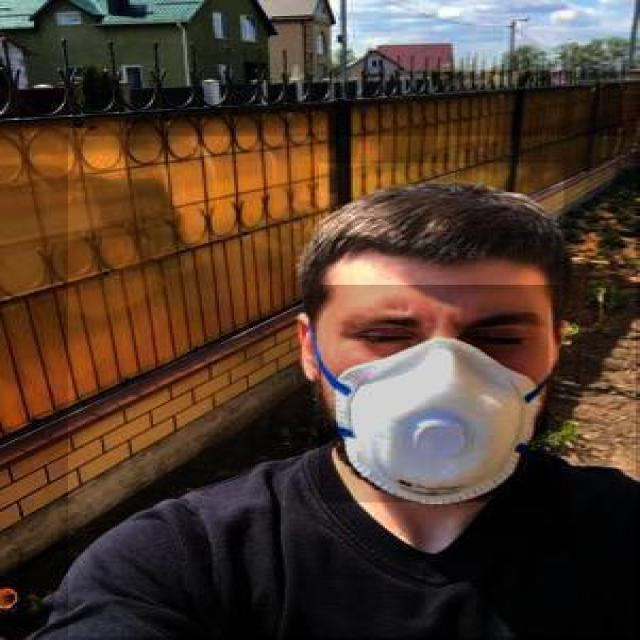face_mask: (319, 285, 551, 504)
head_nohelmet: (319, 163, 563, 285)
person: (68, 136, 638, 638)
